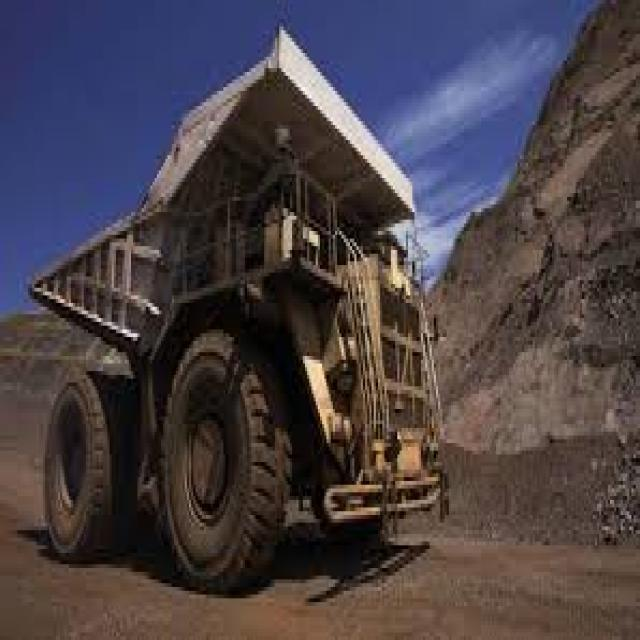dump_truck: (17, 15, 462, 587)
